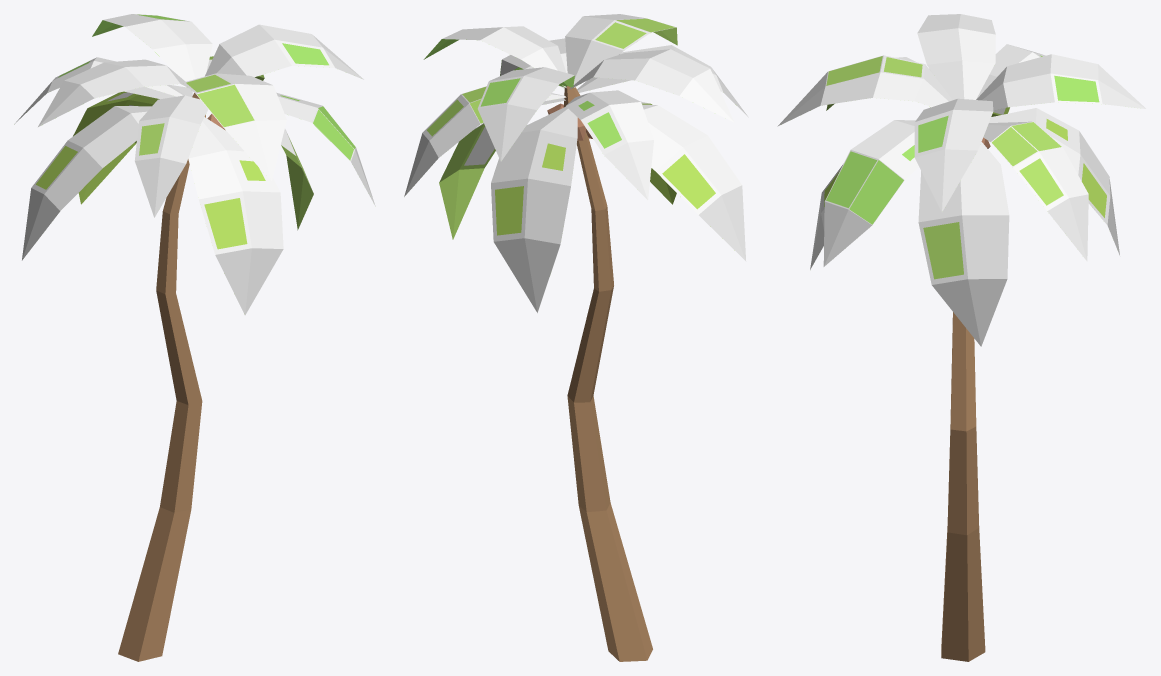
File: Palm_Tree_Coconut_l_Snow_04_LOD.fbx
The picture shows the model from 3 angles, left to right: view 1: azimuth 30°, elevation 25°; view 2: azimuth 150°, elevation 25°; view 3: azimuth 270°, elevation 25°; orthographic projection. The views are drawn at different scales.
Visible parts, largest first — view 1: Palm_Tree_Coconut_l_Snow_04_LOD0; view 2: Palm_Tree_Coconut_l_Snow_04_LOD0; view 3: Palm_Tree_Coconut_l_Snow_04_LOD0.
Part boxes in pixels (bbox=[...]): Palm_Tree_Coconut_l_Snow_04_LOD0: bbox=[14, 14, 375, 661]; Palm_Tree_Coconut_l_Snow_04_LOD0: bbox=[404, 14, 748, 661]; Palm_Tree_Coconut_l_Snow_04_LOD0: bbox=[777, 14, 1145, 661].
Size of what is drawn, in the model's own units: 475 by 809 by 440.
